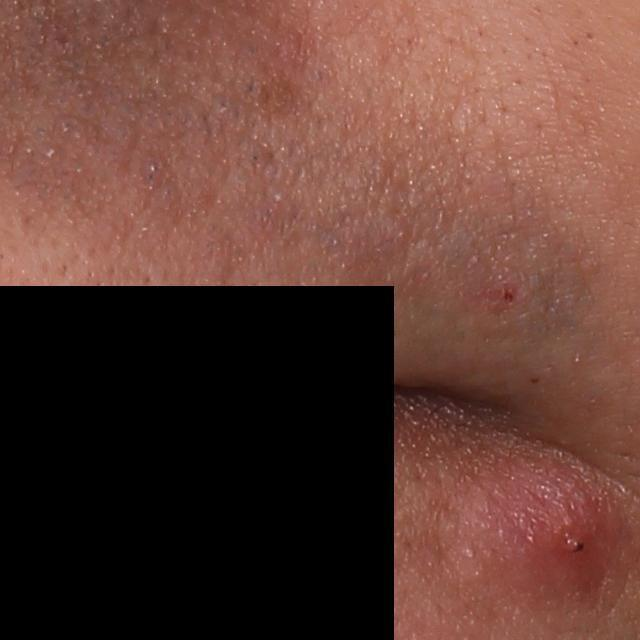papule: (466, 446, 622, 604)
